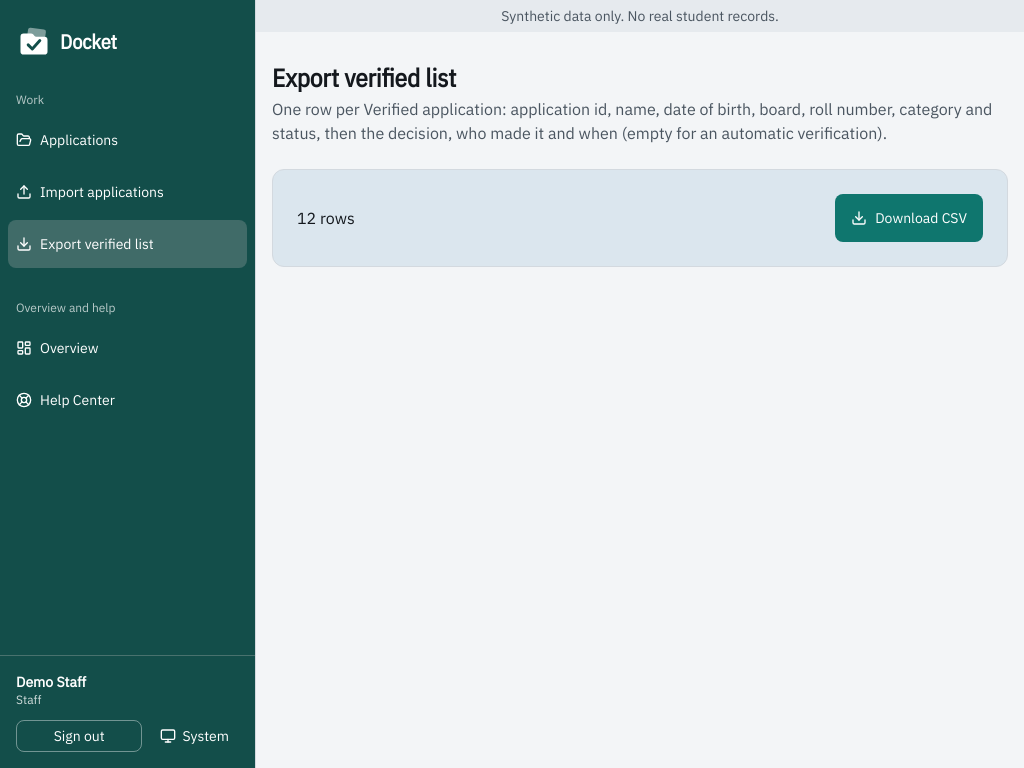
Test: the export › says nothing is Verified yet and saves no file when the file holds only its header
The image size is (1024, 768).
Click the button "Download CSV": (909, 218) [835, 194, 983, 242]
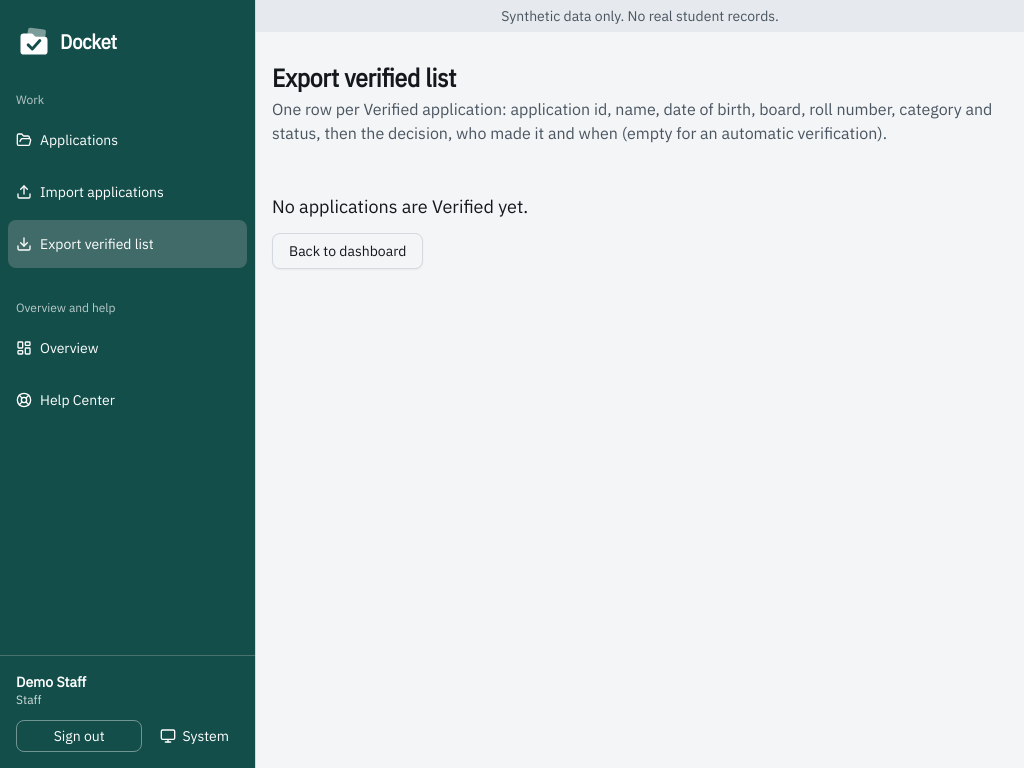
Expected: the text "No applications are Verified yet." is shown, [272, 195, 528, 218]
